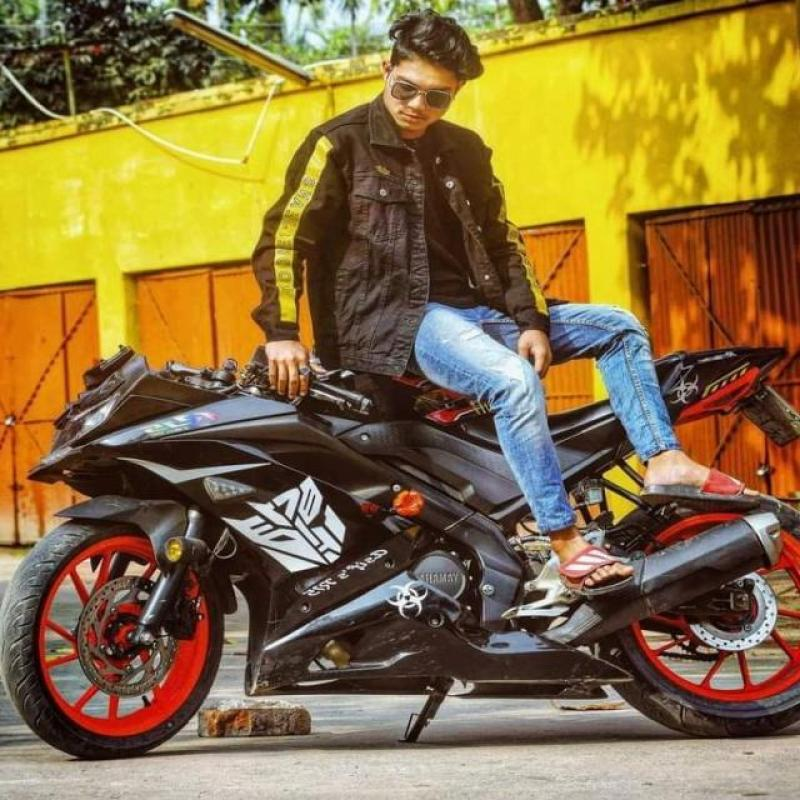nohelmet: (381, 10, 496, 132)
